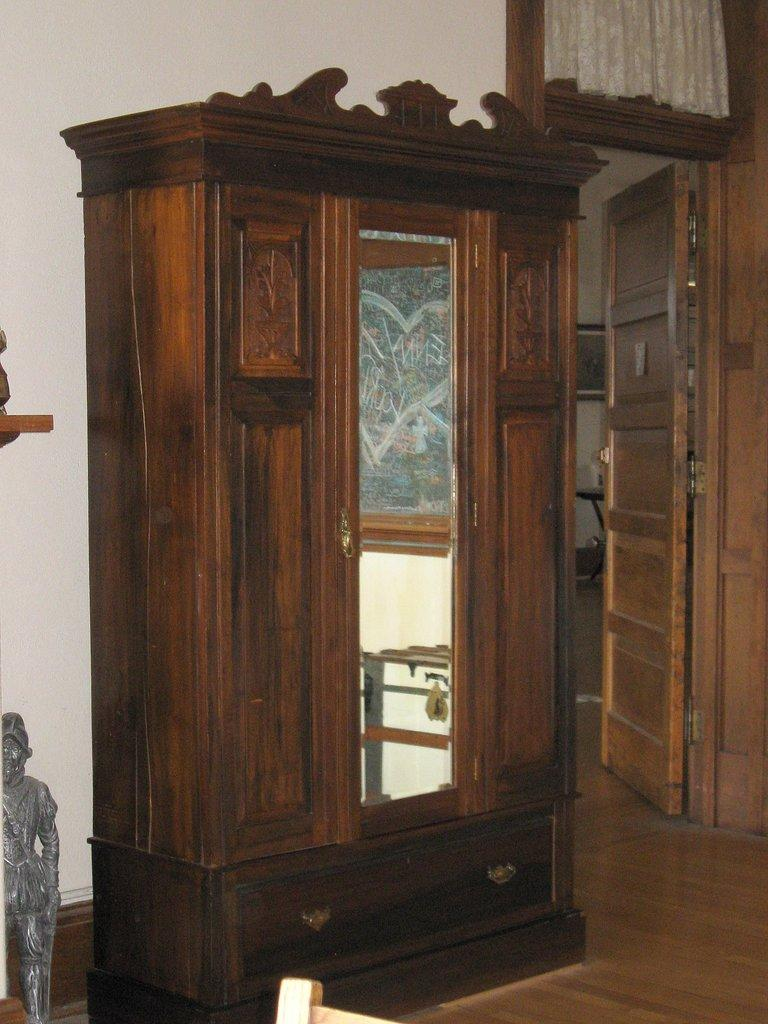cabinet_door: (225, 188, 320, 832), (477, 232, 562, 795), (242, 844, 554, 932)
handle: (482, 855, 512, 889), (338, 506, 354, 564), (303, 896, 326, 934)
